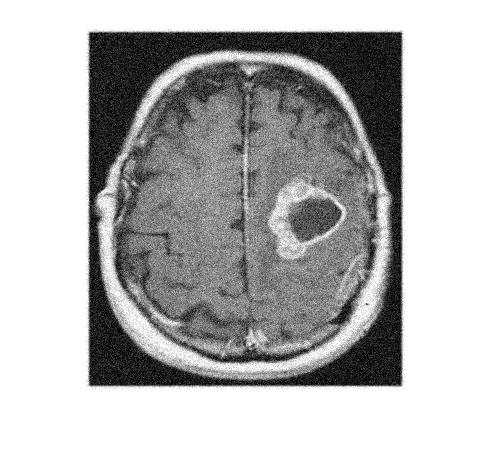Brain_Cancer: (267, 181, 354, 253)
